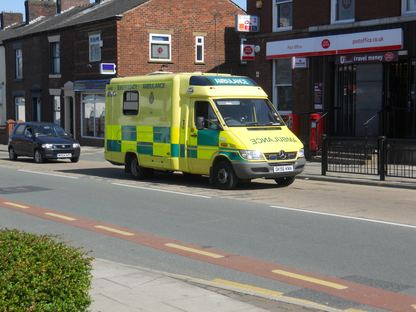ambulance: (104, 59, 307, 189)
